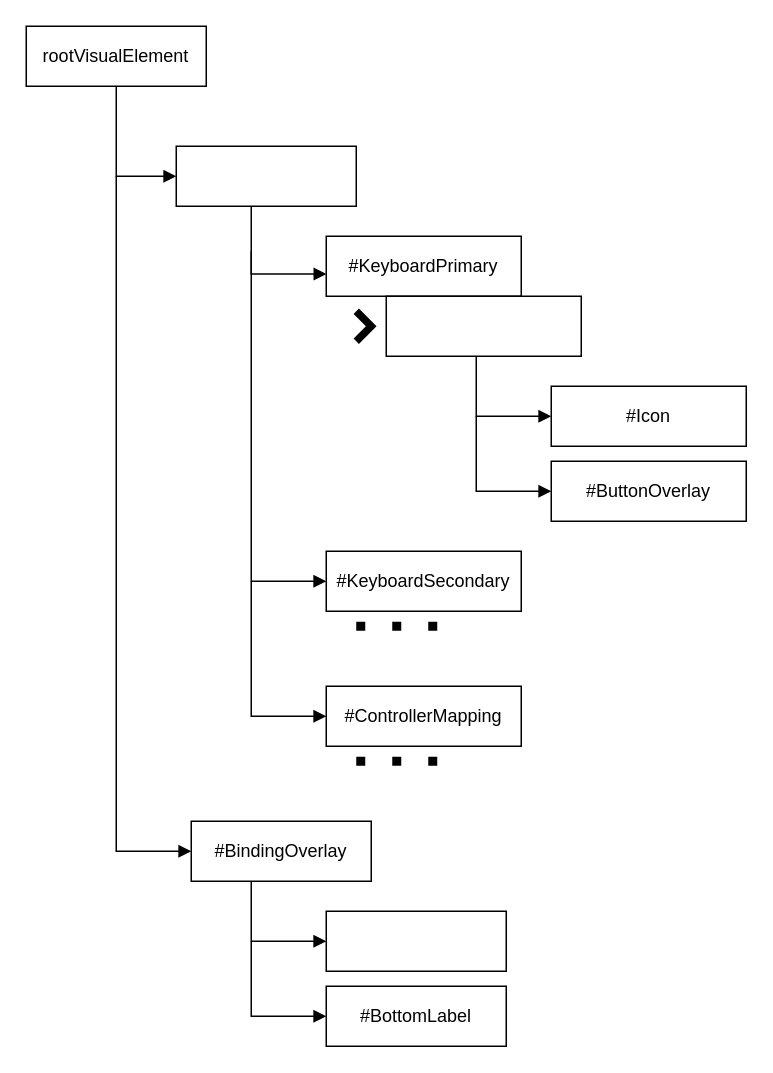
This 773x1073 diagram has some shape labels left out. The centre of each missing label's shape, as x and y in pixels:
"#EXAMPLENAME" belongs at [265,175].
"#TopLabel" belongs at [415,940].
"Button" belongs at [483,325].
